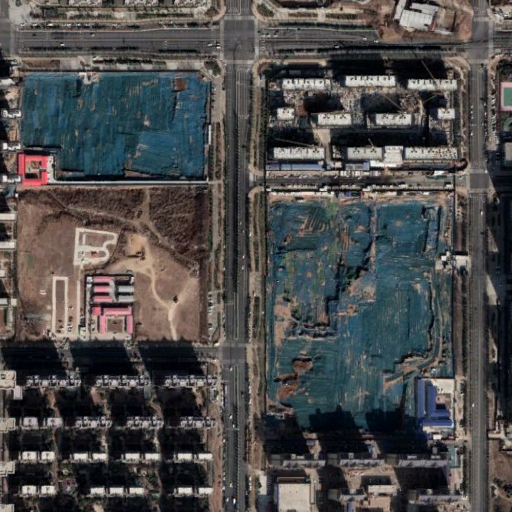cw: (262, 190, 455, 432), (14, 66, 212, 184)
